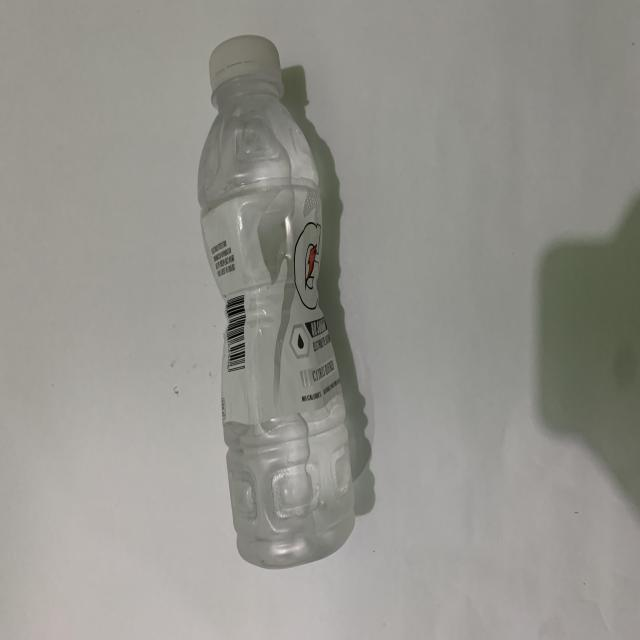bottle: (182, 19, 370, 568)
